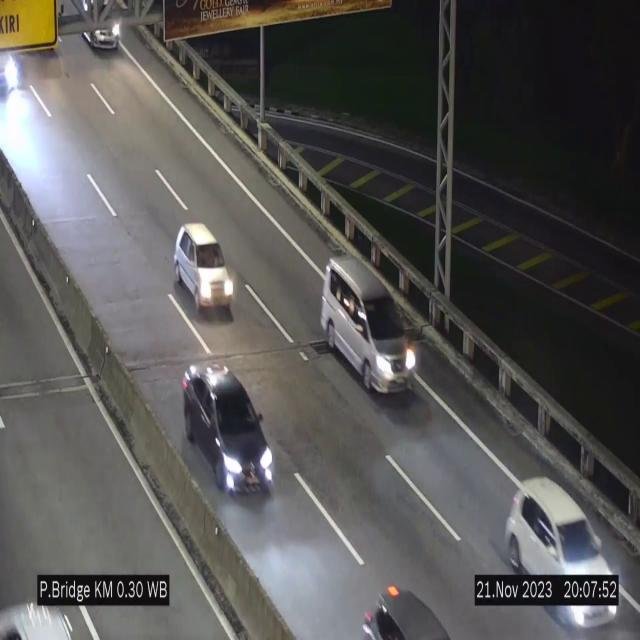Car: (321, 256, 415, 392), (182, 362, 274, 493), (174, 224, 234, 314)
